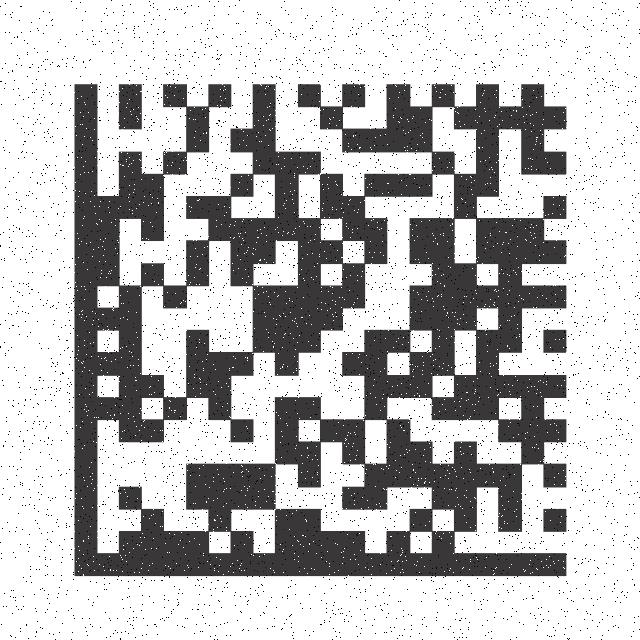datamatrix: (57, 71, 576, 584)
